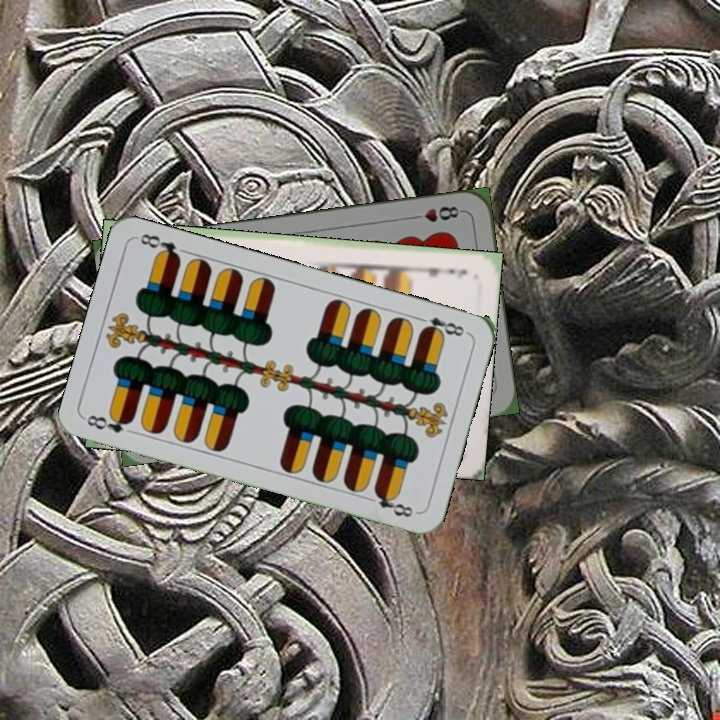E7: (416, 262, 470, 281)
E8: (412, 312, 470, 340), (82, 410, 140, 437)
H8: (407, 202, 466, 225)
